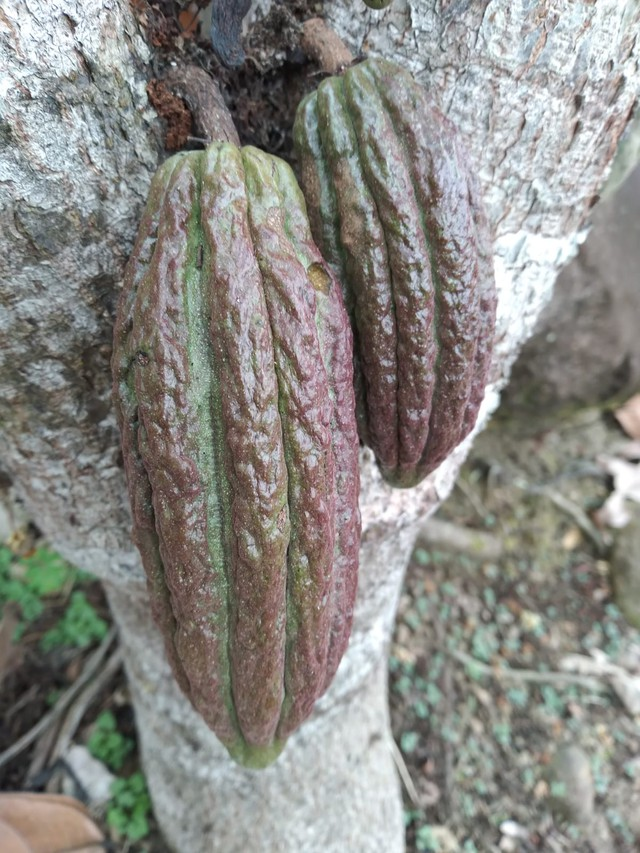Health: (102, 139, 367, 776), (293, 57, 506, 492)
